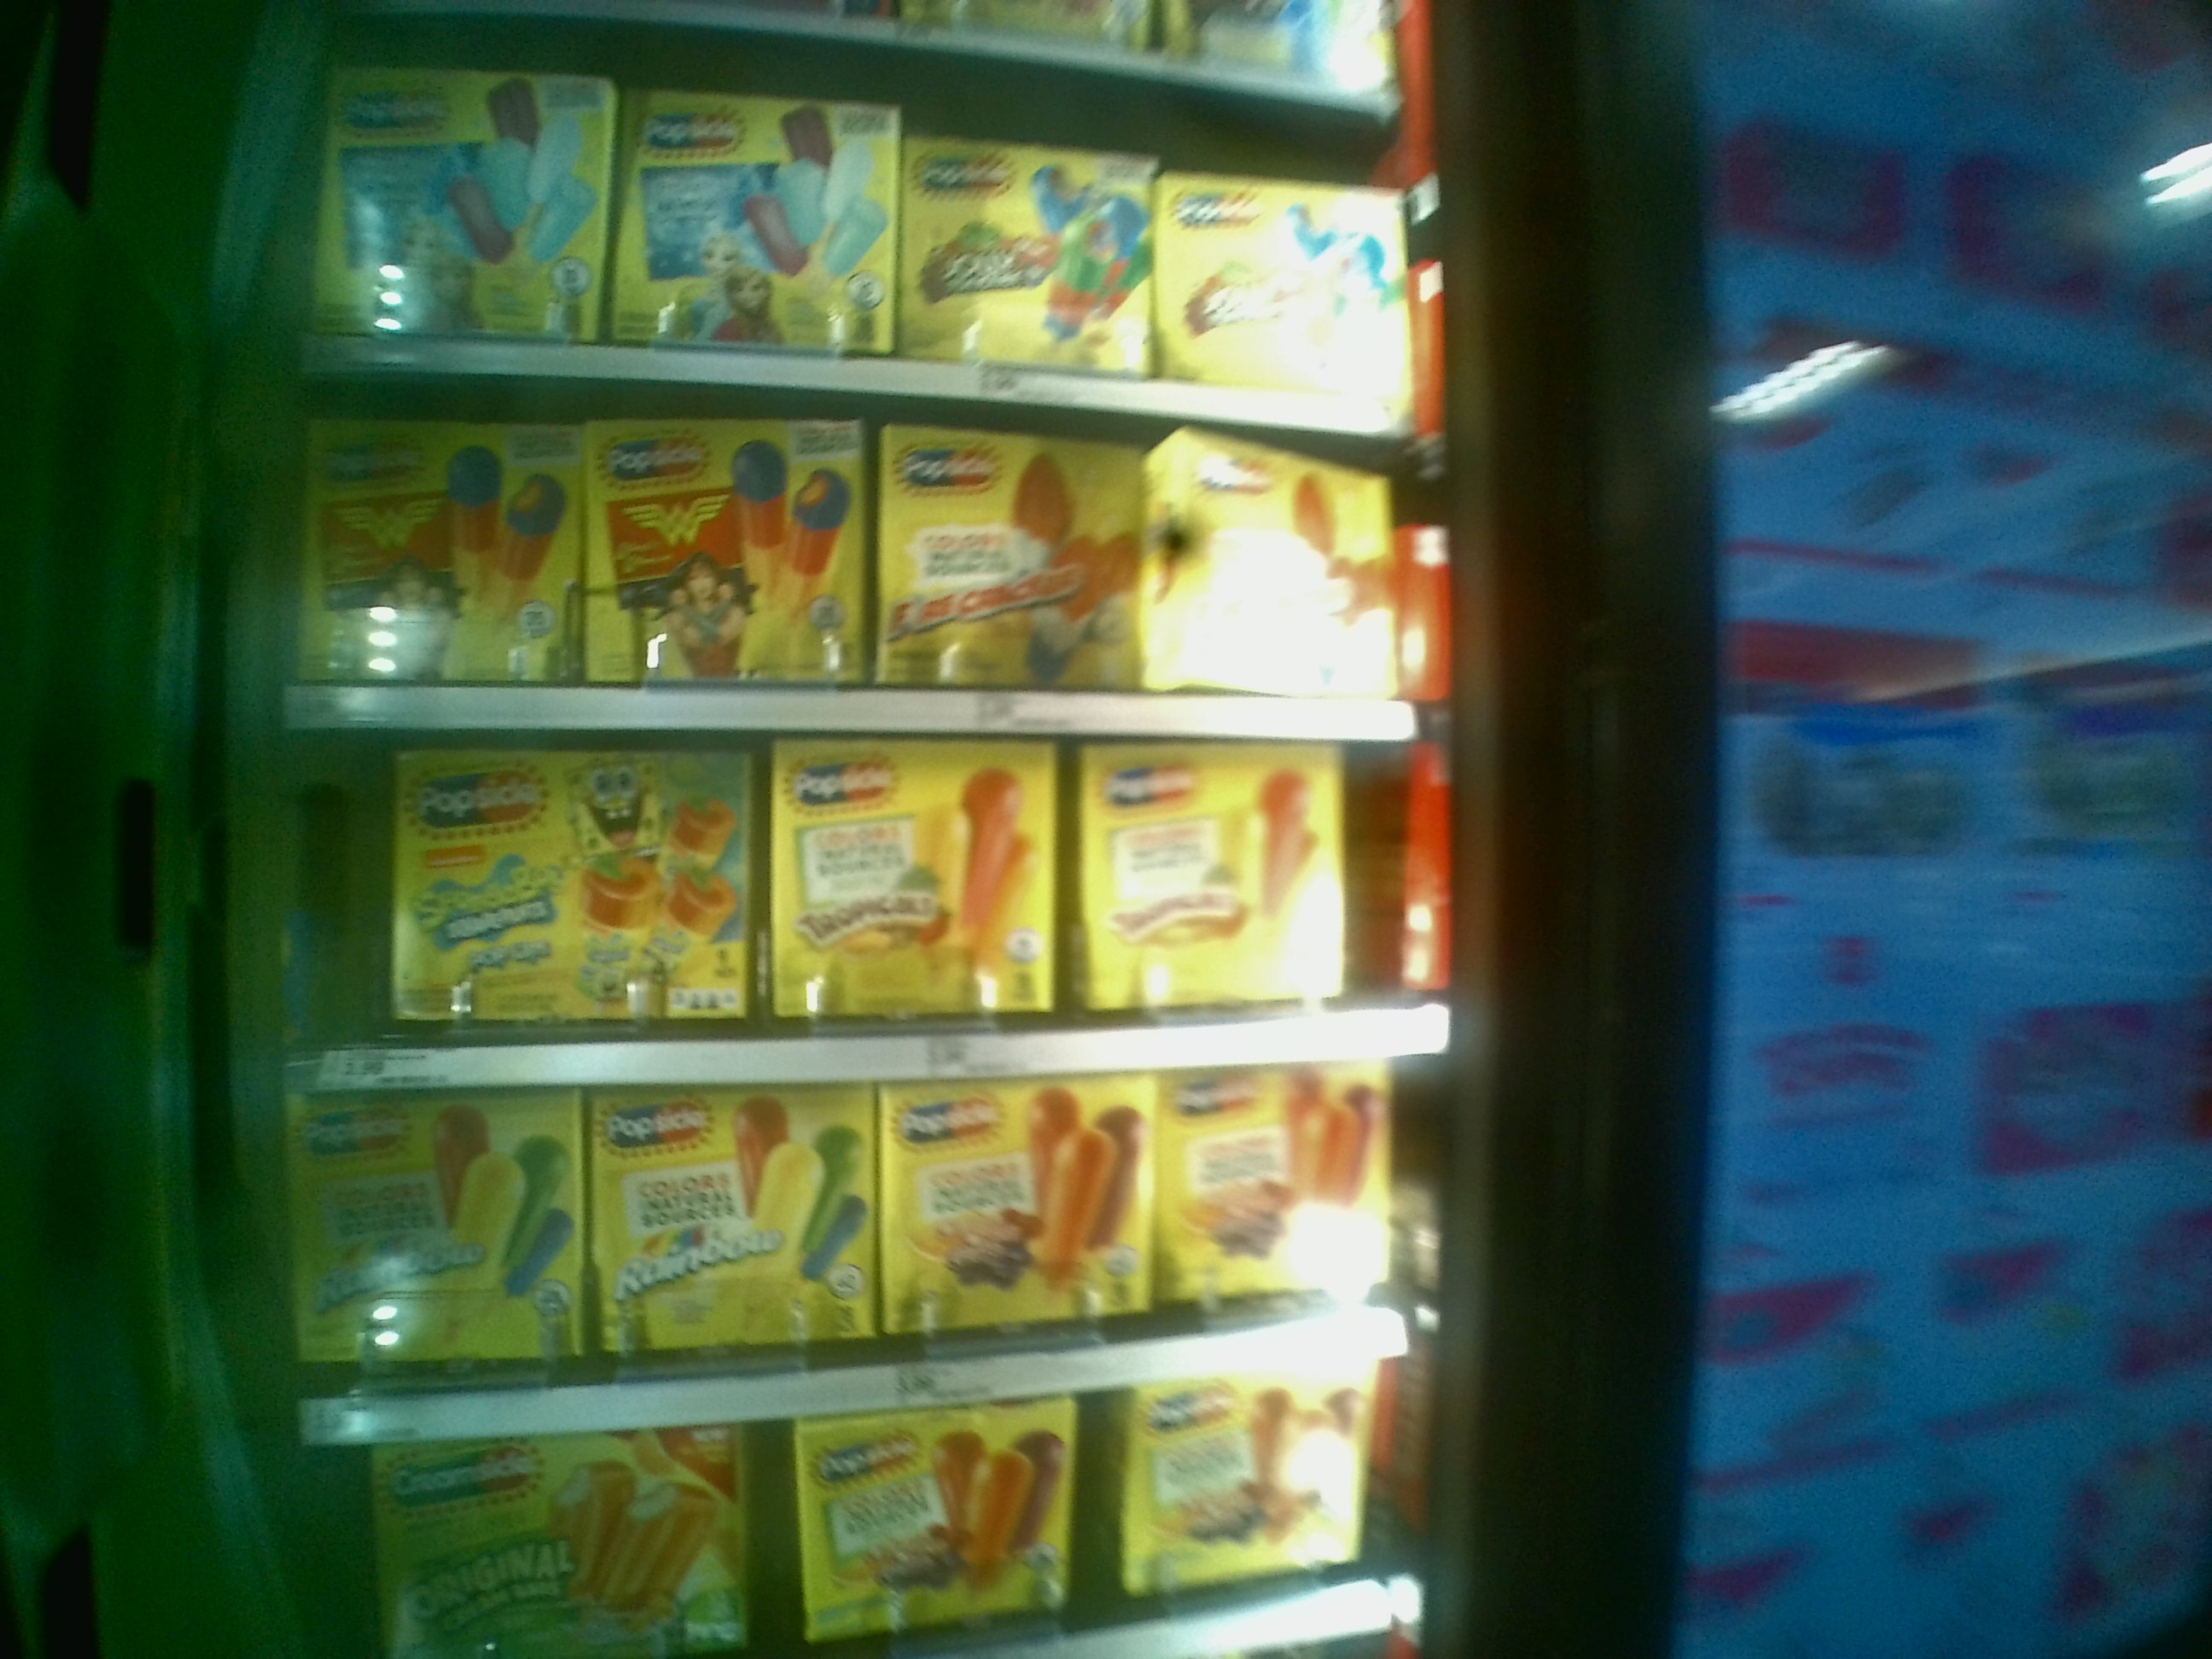frozen-food-shelf: (268, 742, 1480, 1094)
